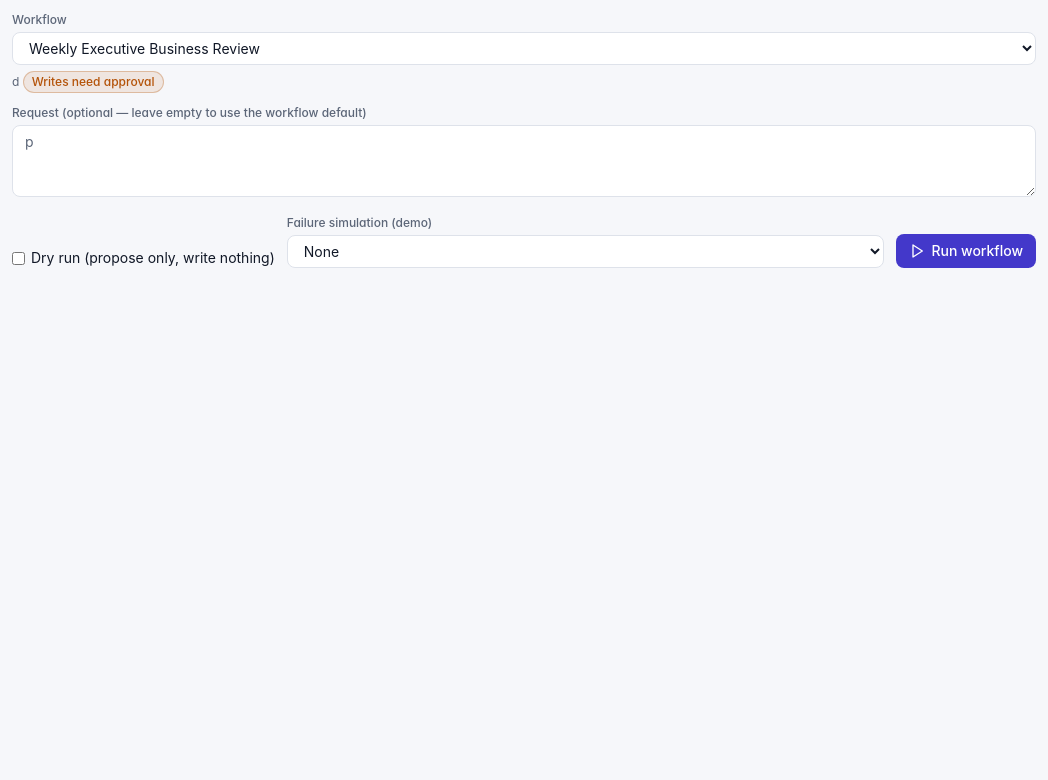
it: Launcher › surfaces a backend error as a toast
Click the button "Run workflow" at (966, 251), box [896,234,1036,268]
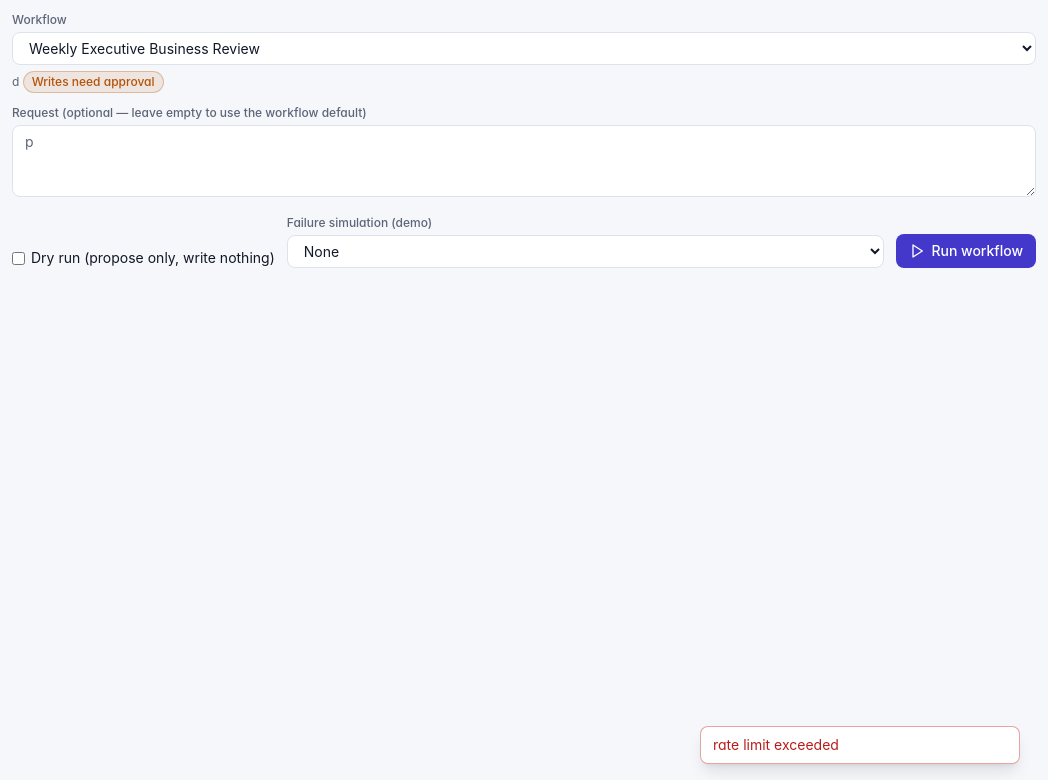
Expected: the text "rate limit exceeded" is shown, [700,726,1020,764]
